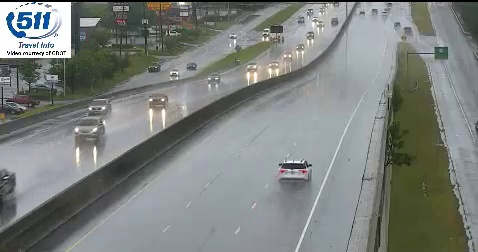car: (279, 159, 312, 182)
